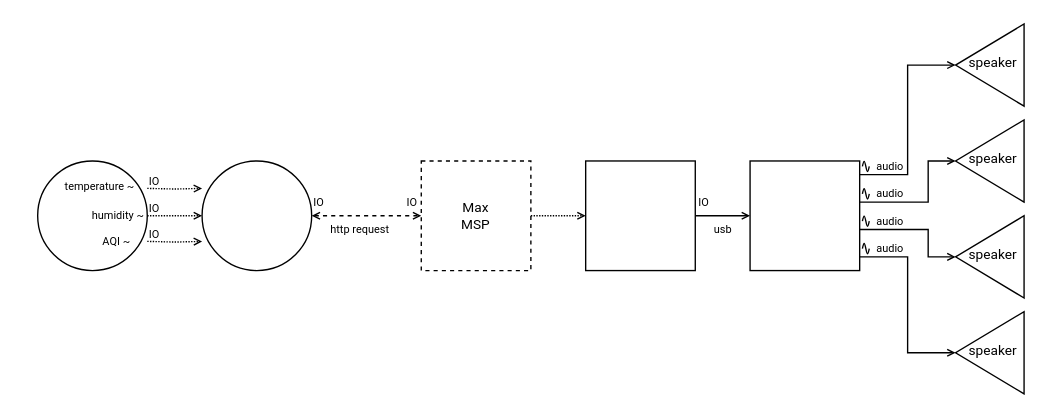
The diagram is 1048 pixels wide and 418 high, and some of its shapes have lost their labels. The centre of each missing label's shape, as x and y in pixels:
"laptop" goes at point 639,215.
"server" goes at point 256,215.
"sound card" goes at point 804,215.
